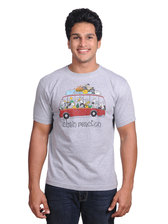clothoes: (31, 61, 137, 193)
